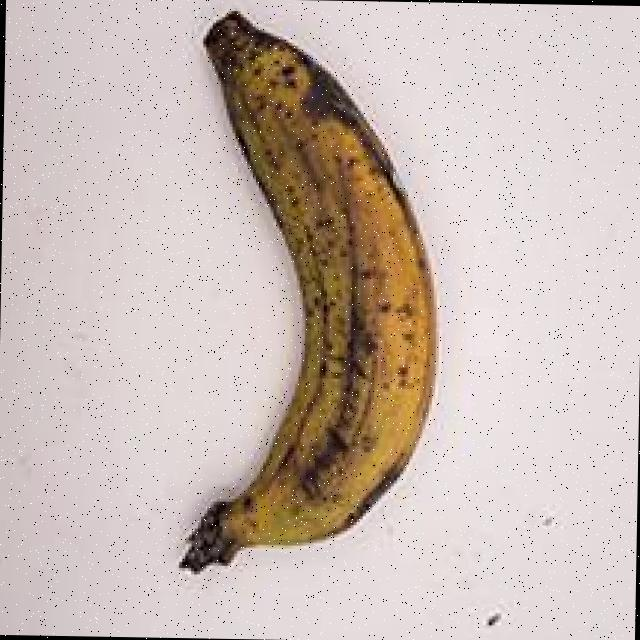Overripe: (77, 0, 496, 591)
